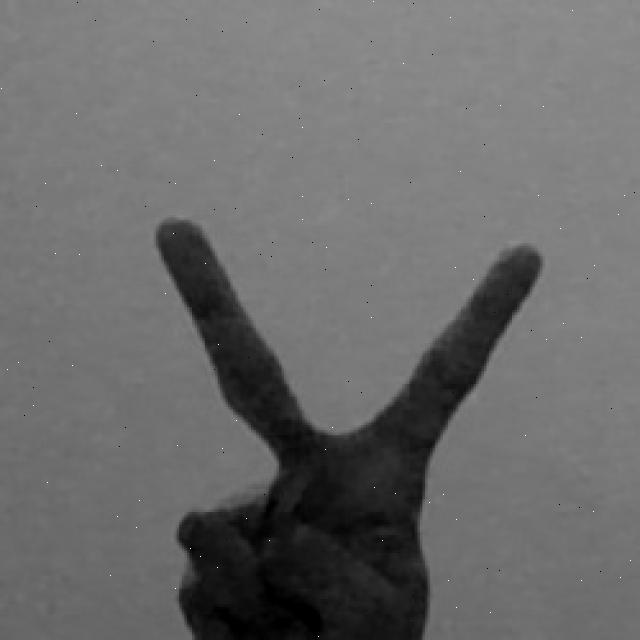V: (147, 206, 546, 640)
